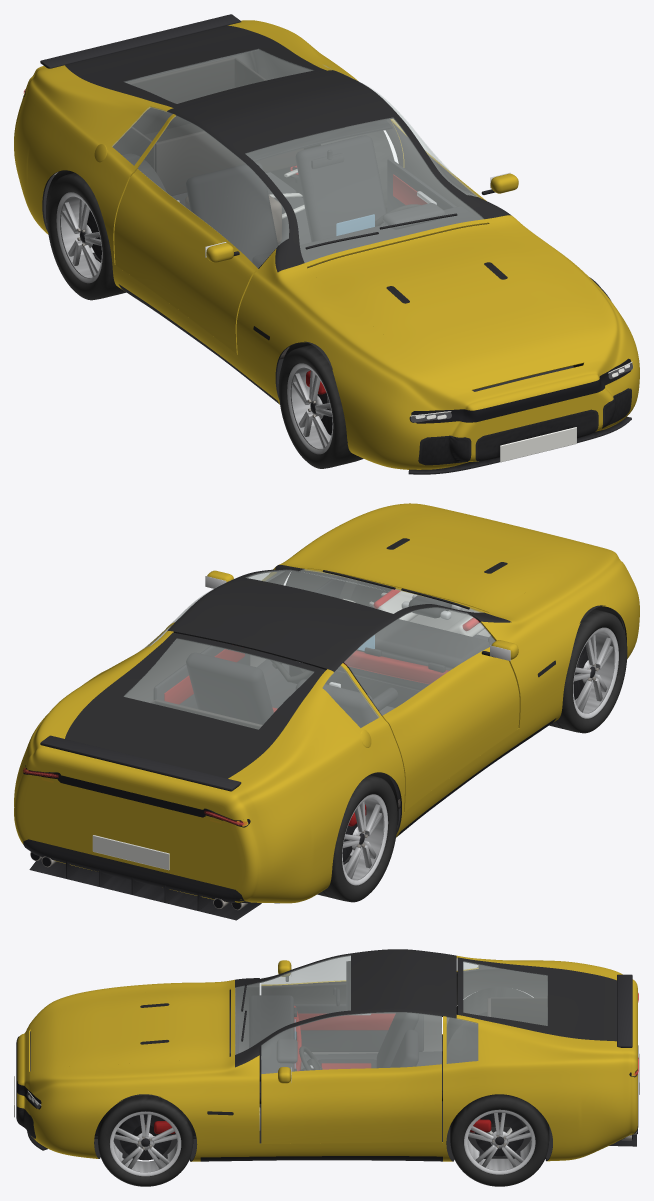
File: ferrari12c.glb
The picture shows the model from 3 angles, top to bottom: view 1: azimuth 30°, elevation 25°; view 2: azimuth 150°, elevation 25°; view 3: azimuth 270°, elevation 25°; orthographic projection. The views are drawn at different scales.
Parts seen in each view (by area): view 1: Body, Hood, Windshield, Door_FR, Door_FR_Glass, Tailgate, Seat_FL_Back, Seat_FR_Back, Tailgate_Glass, Boot_Back, Boot_Front, Wheel_FR_Tire (+21 smaller); view 2: Body, Hood, Tailgate, Door_FR, Tailgate_Glass, Door_FR_Glass, Diffuser, Seat_FL_Back, Windshield, Dash_Top, Wheel_RR_Tire, Wheel_FR_Tire (+18 smaller); view 3: Body, Door_FL, Hood, Door_FL_Glass, Windshield, Tailgate, Tailgate_Glass, Wheel_RL_Tire, Wheel_FL_Tire, Dash_Top, Door_FR_Card, WheelWell_RR (+16 smaller).
Part boxes in pixels (box(x1,y1,x2,y2)): Body: box(14, 20, 639, 469); Hood: box(308, 224, 589, 390); Windshield: box(245, 117, 483, 262); Door_FR: box(114, 169, 258, 354); Door_FR_Glass: box(138, 115, 288, 268); Tailgate: box(65, 25, 326, 107); Seat_FL_Back: box(295, 135, 386, 241); Seat_FR_Back: box(186, 162, 278, 261); Tailgate_Glass: box(124, 49, 313, 103); Boot_Back: box(155, 131, 303, 195); Boot_Front: box(127, 57, 234, 134); Wheel_FR_Tire: box(278, 345, 363, 468); Body: box(14, 503, 639, 903); Hood: box(308, 508, 589, 612); Tailgate: box(65, 632, 325, 778); Door_FR: box(382, 647, 519, 811); Tailgate_Glass: box(124, 638, 313, 729); Door_FR_Glass: box(344, 607, 494, 715); Diffuser: box(23, 839, 261, 920); Seat_FL_Back: box(186, 652, 273, 724); Windshield: box(246, 569, 482, 613); Dash_Top: box(375, 619, 489, 668); Wheel_RR_Tire: box(317, 775, 397, 902); Wheel_FR_Tire: box(549, 609, 627, 733); Body: box(17, 949, 637, 1161); Door_FL: box(261, 1064, 441, 1143); Hood: box(30, 989, 229, 1070); Door_FL_Glass: box(261, 1012, 441, 1073); Windshield: box(235, 955, 350, 1054); Tailgate: box(457, 957, 616, 1041); Tailgate_Glass: box(463, 961, 547, 1025); Wheel_RL_Tire: box(450, 1094, 549, 1186); Wheel_FL_Tire: box(98, 1095, 193, 1186); Dash_Top: box(249, 995, 293, 1081); Door_FR_Card: box(294, 1004, 423, 1051); WheelWell_RR: box(446, 987, 532, 1063).
Bounding box in the file's own units: 2.08 × 1.31 × 4.77.
